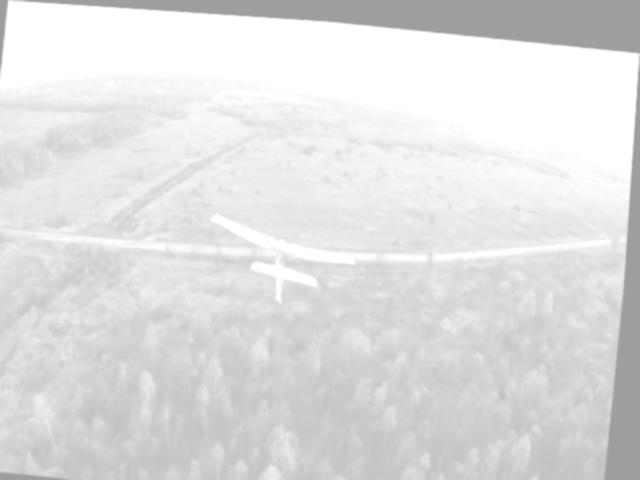hedef: (199, 199, 361, 320)
